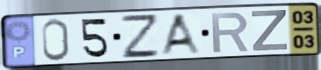0: (40, 17, 72, 63)
5: (79, 18, 110, 60)
A: (158, 11, 205, 56)
R: (209, 11, 251, 55)
Z: (118, 14, 162, 61), (249, 9, 290, 53)
